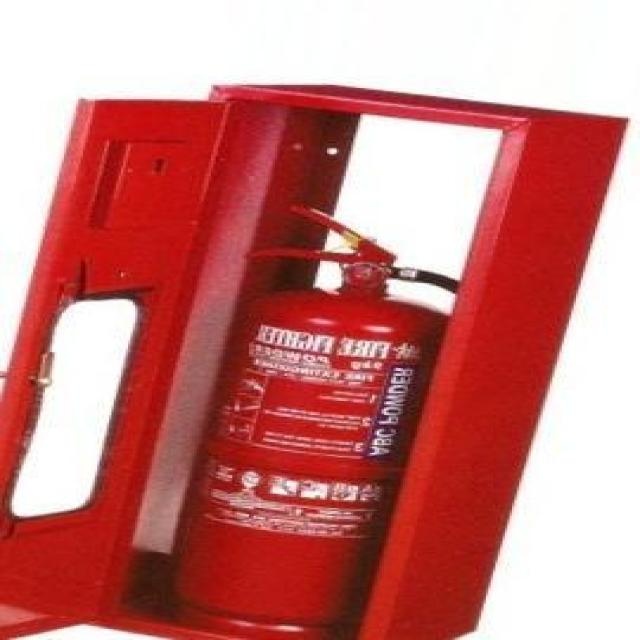fire_extinguisher: (147, 194, 467, 638)
